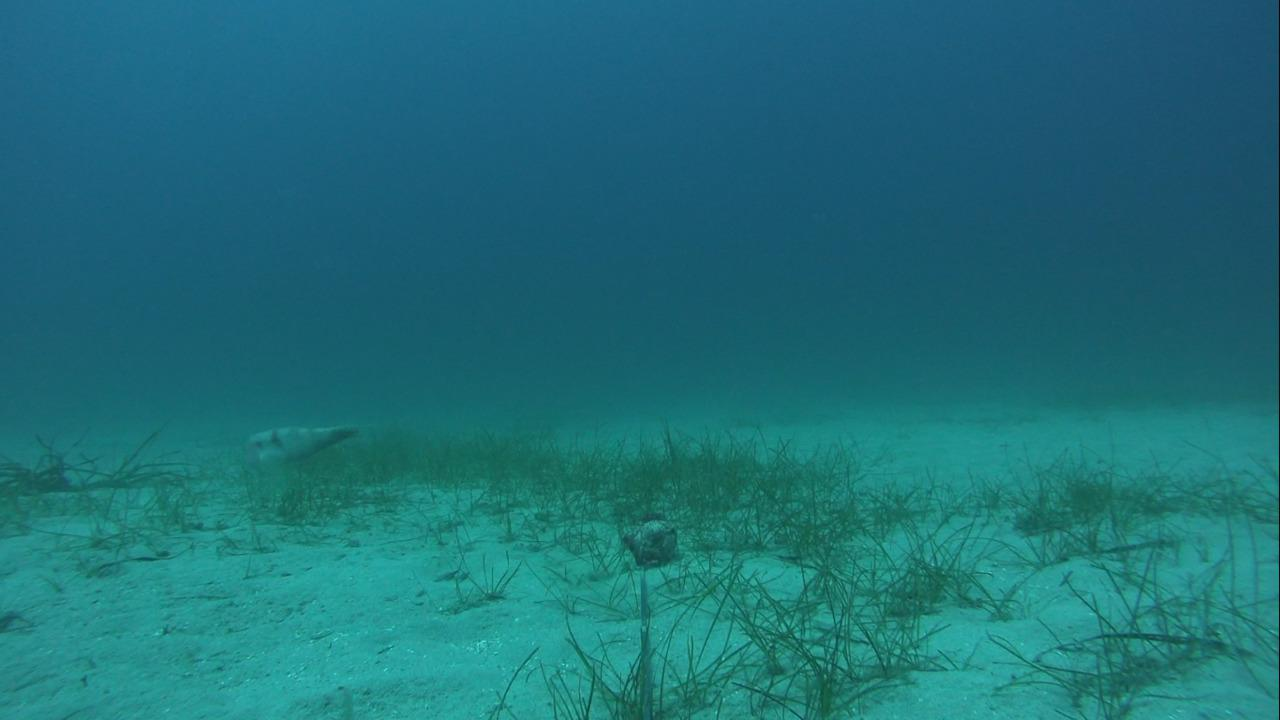raor: (247, 420, 362, 467)
